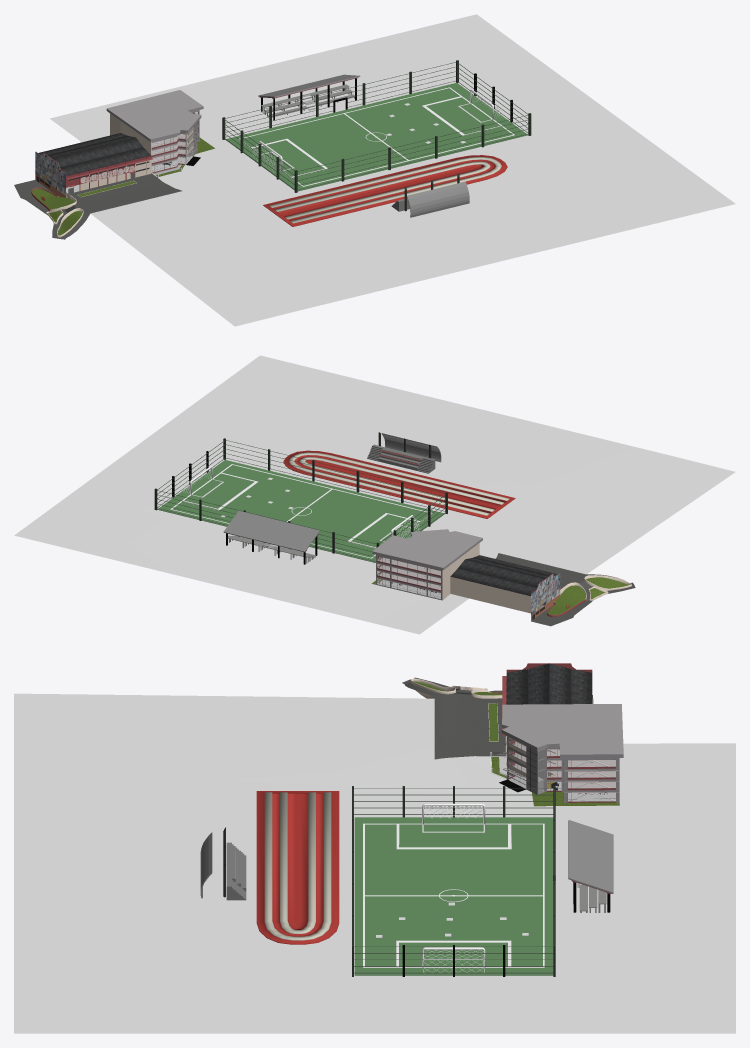
File: Suelo.fbx
The picture shows the model from 3 angles, top to bottom: view 1: azimuth 30°, elevation 25°; view 2: azimuth 150°, elevation 25°; view 3: azimuth 270°, elevation 25°; orthographic projection. The views are drawn at different scales.
Visible parts, largest first — view 1: Plane.002, Plane, Plane.017, Plane.011, Plane.285, Polideportivo.001, Polideportivo.056, NurbsPath.002, Polideportivo.066, Plane.016, Cube.067, NurbsPath.001 (+7 smaller); view 2: Plane.002, Plane, Plane.017, Plane.011, Plane.285, Polideportivo.056, Plane.006, NurbsPath.002, Polideportivo.001, Polideportivo.068, Cube.062, Polideportivo.075 (+9 smaller); view 3: Plane.002, Plane, Plane.017, Plane.285, Plane.011, Polideportivo.001, Polideportivo.056, Plane.006, NurbsPath.001, Plane.301, vidrios, Polideportivo.073 (+6 smaller).
Boxes of the visible parts, bbox=[...] form: Plane.002: bbox=[50, 14, 735, 326]; Plane: bbox=[225, 82, 527, 191]; Plane.017: bbox=[263, 155, 507, 226]; Plane.011: bbox=[269, 157, 501, 223]; Plane.285: bbox=[106, 90, 203, 141]; Polideportivo.001: bbox=[14, 173, 181, 239]; Polideportivo.056: bbox=[38, 133, 150, 175]; NurbsPath.002: bbox=[225, 62, 528, 190]; Polideportivo.066: bbox=[66, 155, 152, 193]; Plane.016: bbox=[407, 181, 469, 217]; Cube.067: bbox=[222, 60, 531, 192]; NurbsPath.001: bbox=[224, 62, 528, 189]; Plane.002: bbox=[14, 355, 735, 634]; Plane: bbox=[157, 460, 444, 562]; Plane.017: bbox=[283, 450, 515, 518]; Plane.011: bbox=[289, 452, 509, 515]; Plane.285: bbox=[372, 529, 482, 570]; Polideportivo.056: bbox=[450, 555, 557, 595]; Plane.006: bbox=[223, 510, 320, 552]; NurbsPath.002: bbox=[157, 440, 445, 561]; Polideportivo.001: bbox=[495, 553, 635, 626]; Polideportivo.068: bbox=[450, 576, 530, 613]; Cube.062: bbox=[367, 444, 435, 473]; Polideportivo.075: bbox=[548, 577, 628, 615]; Plane.002: bbox=[14, 693, 735, 1033]; Plane: bbox=[354, 817, 553, 975]; Plane.017: bbox=[256, 791, 339, 944]; Plane.285: bbox=[501, 704, 623, 758]; Plane.011: bbox=[264, 792, 331, 940]; Polideportivo.001: bbox=[402, 677, 593, 759]; Polideportivo.056: bbox=[506, 663, 592, 704]; Plane.006: bbox=[568, 820, 613, 893]; NurbsPath.001: bbox=[354, 788, 553, 973]; Plane.301: bbox=[506, 738, 619, 802]; vidrios: bbox=[509, 738, 615, 800]; Polideportivo.073: bbox=[506, 736, 619, 792].
Size of what is drawn, in the model's own units: 567 by 44.02 by 471.
